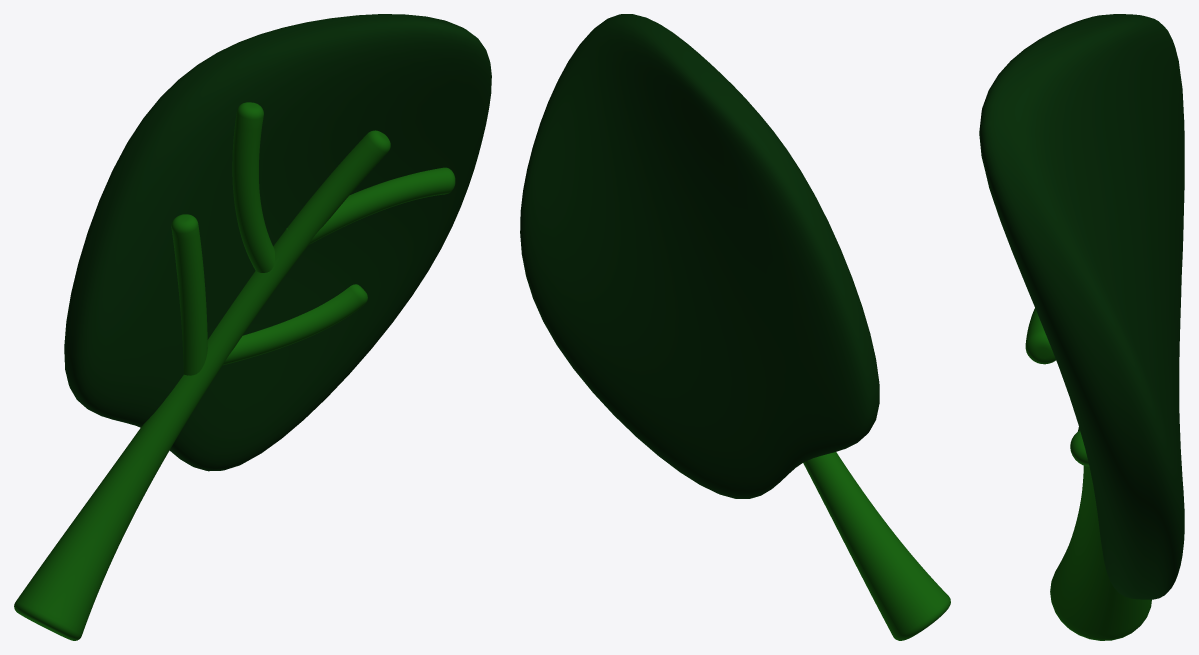
Rendered from spinach.obj.
3 views of the same model, side by side, from view 1: azimuth 30°, elevation 25°; view 2: azimuth 150°, elevation 25°; view 3: azimuth 270°, elevation 25° (orthographic). The views are drawn at different scales.
Visible parts, largest first — view 1: Cube.014_Cube.019, NurbsPath.041_NurbsPath.045; view 2: Cube.014_Cube.019, NurbsPath.041_NurbsPath.045; view 3: Cube.014_Cube.019, NurbsPath.041_NurbsPath.045.
Part boxes in pixels (left/top/right/bottom): Cube.014_Cube.019: left=64, top=14, right=491, bottom=471; NurbsPath.041_NurbsPath.045: left=14, top=102, right=455, bottom=640; Cube.014_Cube.019: left=520, top=14, right=879, bottom=498; NurbsPath.041_NurbsPath.045: left=803, top=452, right=950, bottom=640; Cube.014_Cube.019: left=979, top=14, right=1184, bottom=599; NurbsPath.041_NurbsPath.045: left=1025, top=308, right=1151, bottom=640.
Size of the model in its own units: 1.64 by 1.97 by 0.4697.
